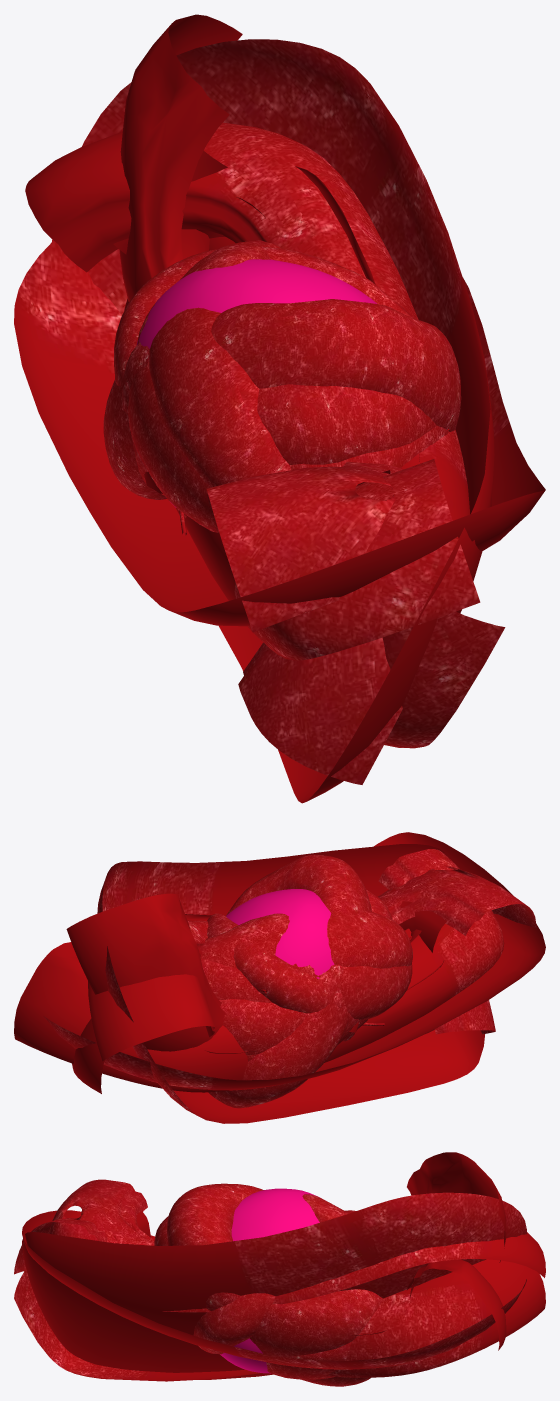
The model's file is platelet-2.mobile.glb.
3 views of the same model, one above another, from view 1: azimuth 30°, elevation 25°; view 2: azimuth 150°, elevation 25°; view 3: azimuth 270°, elevation 25° (orthographic). The views are drawn at different scales.
Visible parts, largest first — view 1: Fishing_boat_Boat_0.302_480, Fishing_boat_Boat_0.026_332, Fishing_boat_Boat_0.001_0, Fishing_boat_Boat_0.030_335, blood.005_522, Fishing_boat_Boat_0.003_164, Fishing_boat_Boat_0.005_3, blood.003_499, blood.009_236, Cube.019_266, blood.007_166, blood.004_309 (+4 smaller); view 2: Fishing_boat_Boat_0.026_332, Fishing_boat_Boat_0.005_3, Fishing_boat_Boat_0.030_335, blood.005_522, Fishing_boat_Boat_0.001_0, Fishing_boat_Boat_0.302_480, Fishing_boat_Boat_0.003_164, blood.003_499, Cube.019_266, blood.007_166, blood.002_165, blood.001_270 (+3 smaller); view 3: Fishing_boat_Boat_0.026_332, Fishing_boat_Boat_0.003_164, Fishing_boat_Boat_0.030_335, Fishing_boat_Boat_0.001_0, blood.005_522, Fishing_boat_Boat_0.302_480, Cube.019_266, blood.001_270, blood.007_166, Fishing_boat_Boat_0.005_3, blood.004_309, blood.003_499.
Part boxes in pixels (bbox=[...]): Fishing_boat_Boat_0.302_480: bbox=[25, 122, 469, 784]; Fishing_boat_Boat_0.026_332: bbox=[52, 39, 494, 803]; Fishing_boat_Boat_0.001_0: bbox=[14, 240, 545, 626]; Fishing_boat_Boat_0.030_335: bbox=[119, 14, 505, 748]; blood.005_522: bbox=[103, 299, 461, 499]; Fishing_boat_Boat_0.003_164: bbox=[206, 461, 403, 632]; Fishing_boat_Boat_0.005_3: bbox=[124, 298, 480, 660]; blood.003_499: bbox=[149, 240, 290, 487]; blood.009_236: bbox=[121, 384, 436, 495]; Cube.019_266: bbox=[136, 259, 376, 507]; blood.007_166: bbox=[114, 246, 414, 517]; blood.004_309: bbox=[134, 431, 218, 532]; Fishing_boat_Boat_0.026_332: bbox=[97, 844, 484, 1123]; Fishing_boat_Boat_0.005_3: bbox=[14, 849, 504, 1092]; Fishing_boat_Boat_0.030_335: bbox=[66, 893, 434, 1051]; blood.005_522: bbox=[208, 854, 371, 1108]; Fishing_boat_Boat_0.001_0: bbox=[43, 832, 545, 1090]; Fishing_boat_Boat_0.302_480: bbox=[88, 920, 495, 1061]; Fishing_boat_Boat_0.003_164: bbox=[72, 866, 536, 1093]; blood.003_499: bbox=[200, 910, 412, 968]; Cube.019_266: bbox=[226, 889, 334, 979]; blood.007_166: bbox=[207, 913, 354, 1041]; blood.002_165: bbox=[219, 992, 367, 1055]; blood.001_270: bbox=[201, 958, 387, 1017]; Fishing_boat_Boat_0.026_332: bbox=[22, 1192, 526, 1379]; Fishing_boat_Boat_0.003_164: bbox=[48, 1179, 545, 1377]; Fishing_boat_Boat_0.030_335: bbox=[14, 1152, 506, 1381]; Fishing_boat_Boat_0.001_0: bbox=[22, 1210, 526, 1369]; blood.005_522: bbox=[166, 1183, 370, 1386]; Fishing_boat_Boat_0.302_480: bbox=[49, 1232, 545, 1325]; Cube.019_266: bbox=[220, 1188, 321, 1373]; blood.001_270: bbox=[269, 1289, 382, 1350]; blood.007_166: bbox=[193, 1210, 355, 1354]; Fishing_boat_Boat_0.005_3: bbox=[14, 1218, 506, 1350]; blood.004_309: bbox=[249, 1307, 325, 1356]; blood.003_499: bbox=[266, 1194, 351, 1379].
Size of the model in its own units: 73977 by 63185 by 111831.
Materials: 5 (3 with a texture image).
